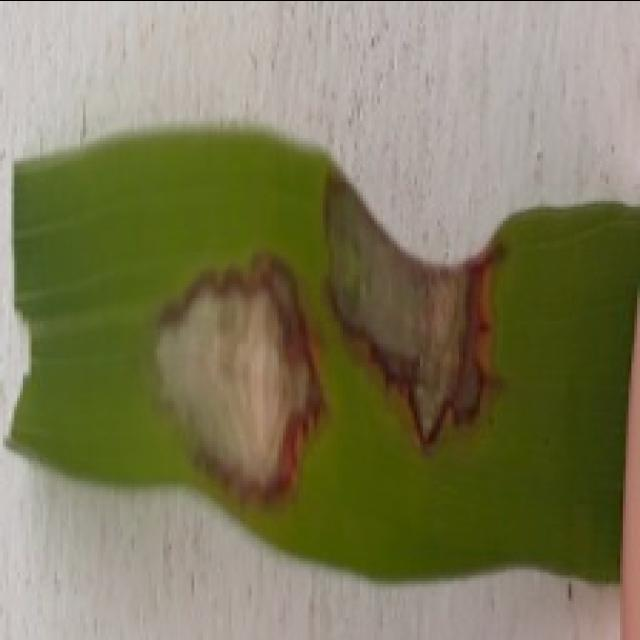Unhealthy: (323, 174, 509, 448), (150, 256, 330, 501)
